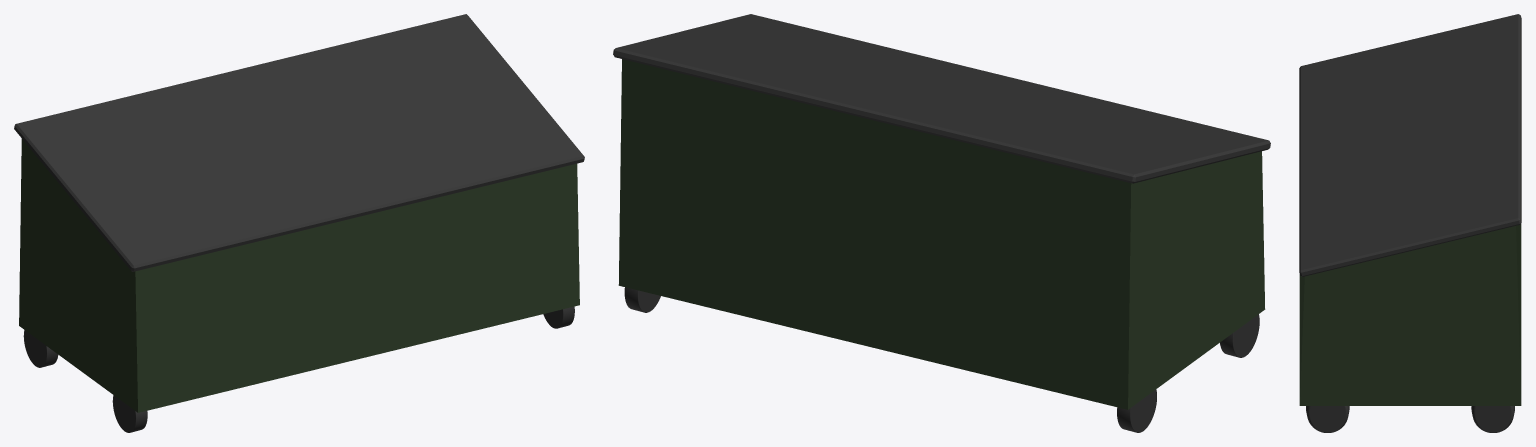
The model's file is Trash Bin.fbx.
3 views of the same model, side by side, from view 1: azimuth 30°, elevation 25°; view 2: azimuth 150°, elevation 25°; view 3: azimuth 270°, elevation 25° (orthographic). The views are drawn at different scales.
Parts seen in each view (by area): view 1: Bin, Lid, Wheel, Wheel2; view 2: Bin, Lid, Wheel2, Wheel, Wheel3; view 3: Lid, Bin, Wheel1, Wheel3.
Part boxes in pixels (x1=…): Bin: x1=19, y1=138, x2=579, y2=412; Lid: x1=14, y1=14, x2=584, y2=271; Wheel: x1=112, y1=395, x2=147, y2=432; Wheel2: x1=23, y1=330, x2=58, y2=367; Bin: x1=618, y1=59, x2=1265, y2=409; Lid: x1=613, y1=14, x2=1270, y2=183; Wheel2: x1=1117, y1=389, x2=1156, y2=432; Wheel: x1=1220, y1=314, x2=1259, y2=357; Wheel3: x1=624, y1=287, x2=660, y2=312; Lid: x1=1299, y1=14, x2=1521, y2=276; Bin: x1=1299, y1=224, x2=1521, y2=405; Wheel1: x1=1306, y1=406, x2=1349, y2=432; Wheel3: x1=1471, y1=406, x2=1514, y2=432.
Bounding box in the file's own units: 10.3 × 5.08 × 4.71.
